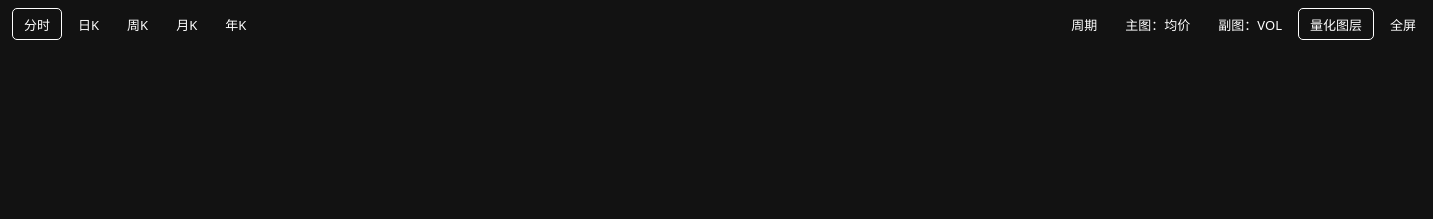
Scenario: keeps minute periods inside a secondary menu
The image size is (1433, 219).
Expected: the button "分时" is shown, [12,8,62,40]
Expected: the button "日K" is shown, [66,8,111,40]
Click the button "周期" at (1084, 24), box [1059,8,1109,40]
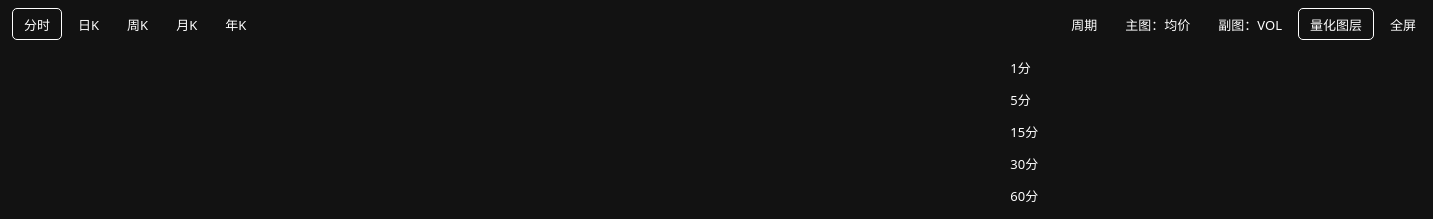
Click the menu item "5分" at (1051, 99), box [998,83,1104,115]
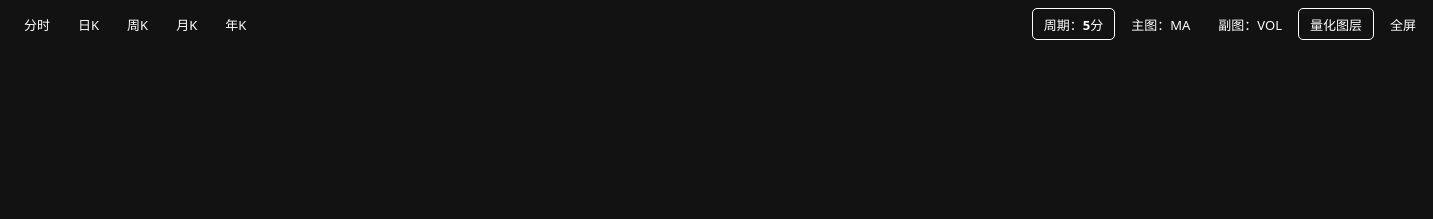
Result: the button "周期：5分" is collapsed at [1032,8,1115,40]
